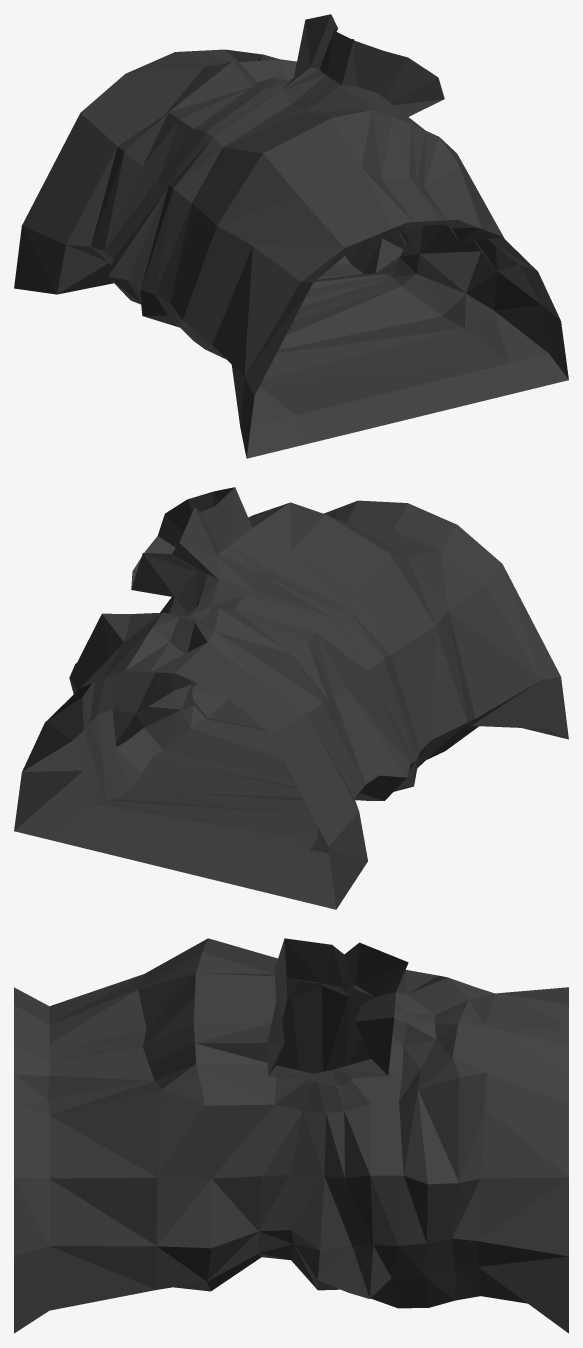
The model's file is Cave_2_LOD_2.fbx.
The picture shows the model from 3 angles, top to bottom: view 1: azimuth 30°, elevation 25°; view 2: azimuth 150°, elevation 25°; view 3: azimuth 270°, elevation 25°; orthographic projection. The views are drawn at different scales.
Parts seen in each view (by area): view 1: polySurface1211; view 2: polySurface1211; view 3: polySurface1211.
Boxes of the visible parts, box(x1,y1,x2,y2) form: polySurface1211: box(14, 14, 568, 458); polySurface1211: box(14, 487, 568, 909); polySurface1211: box(14, 938, 568, 1333).
Bounding box in the file's own units: 8.26 × 6.93 × 10.32.
